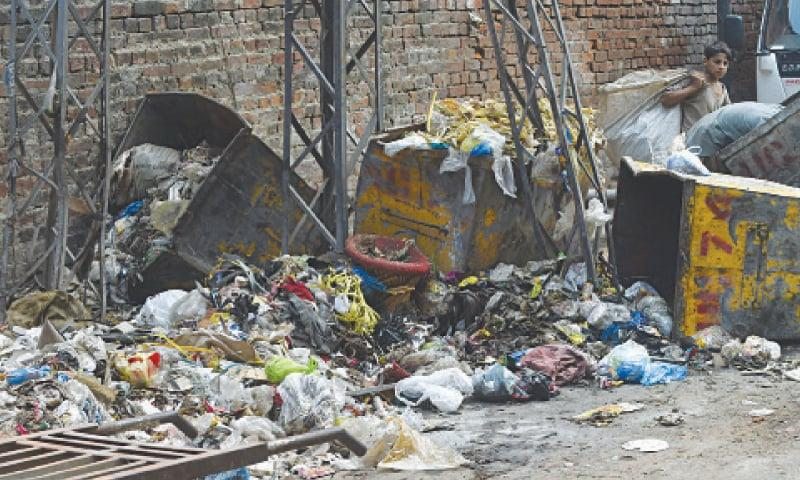garbage: (0, 90, 670, 466)
